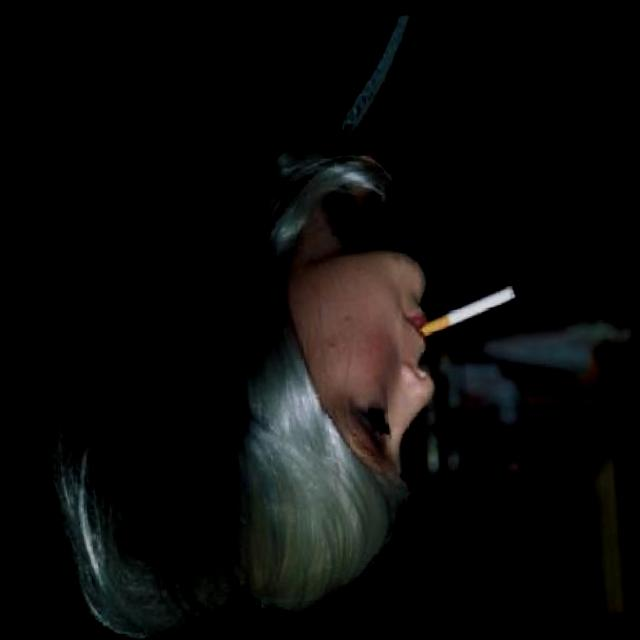cigarette: (412, 278, 525, 347)
